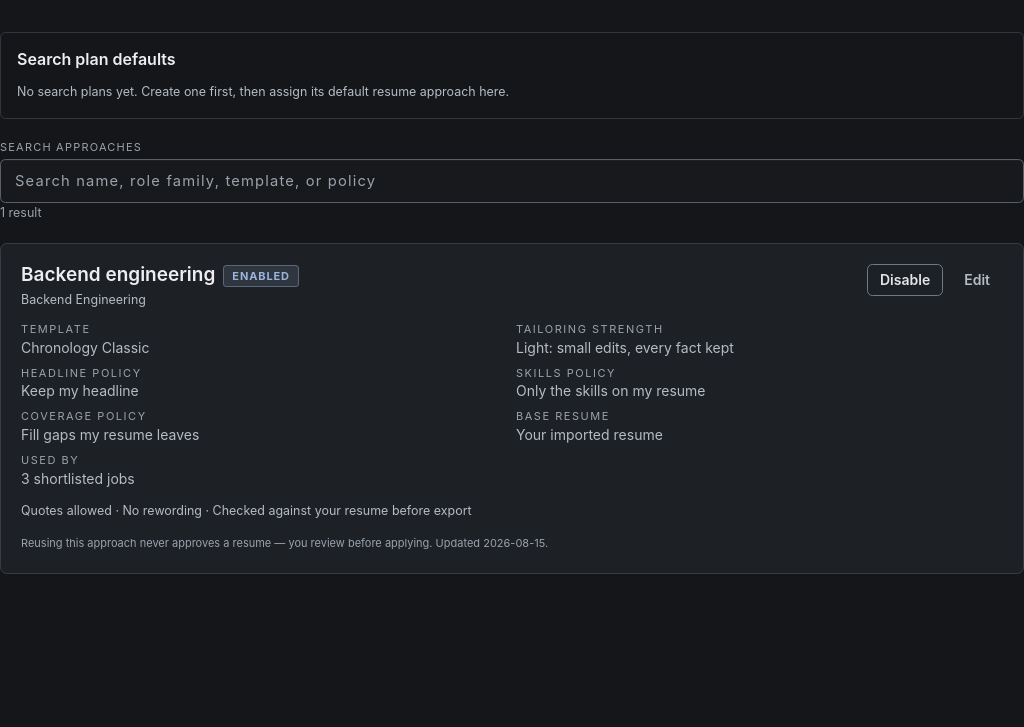
Test: ResumeStrategiesScreen usage after an edit › says which shortlisted jobs use the saved approach and offers to re-tailor their unapproved drafts
Expected: the text "3 shortlisted jobs" is shown, 21,470 -> 135,487
Click the button "Edit".
click(977, 280)  # box 951,264 -> 1003,296
(page scrolled)
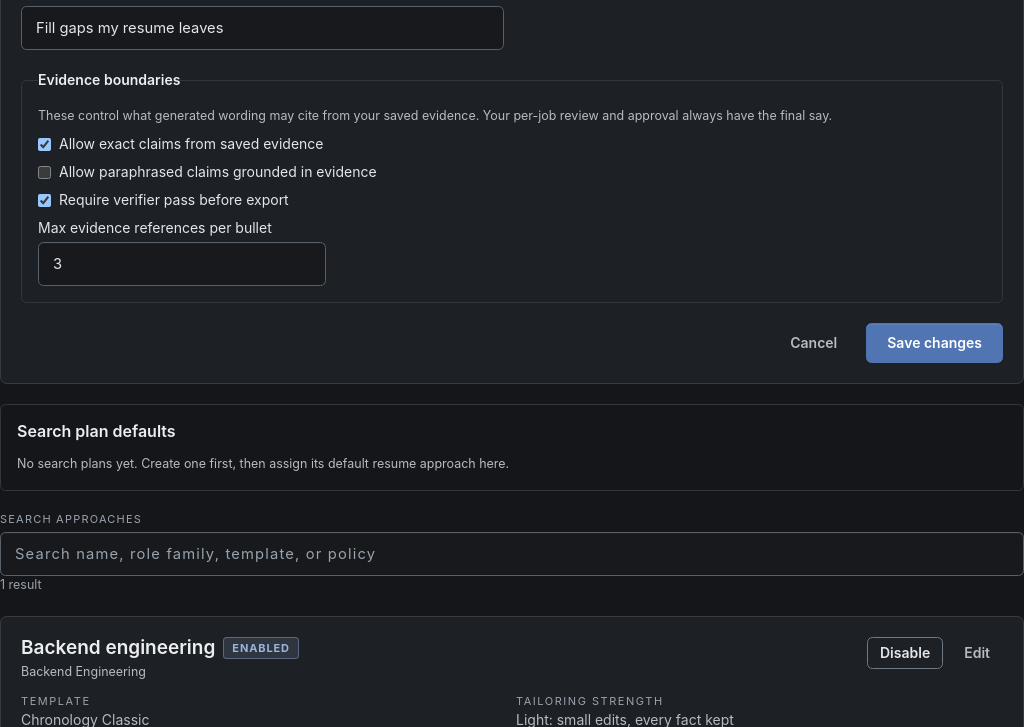
Click the button "Save changes".
click(935, 343)  # box 866,323 -> 1003,363
(page scrolled)
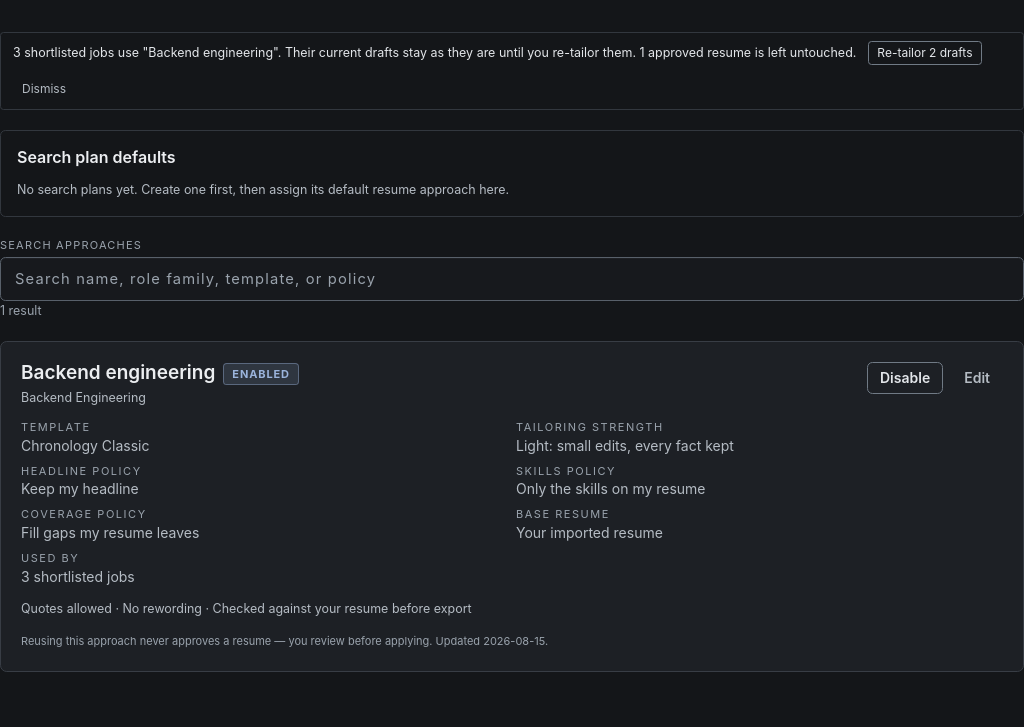
Now the message with test id "resume-strategy-usage-notice" shows "3 shortlisted jobs use", box 13,45 -> 281,60
Now the message with test id "resume-strategy-usage-notice" shows "1 approved resume is left untouched", box 636,45 -> 856,60
Click the button "Re-tailor 2 drafts".
click(925, 53)  # box 868,41 -> 982,65
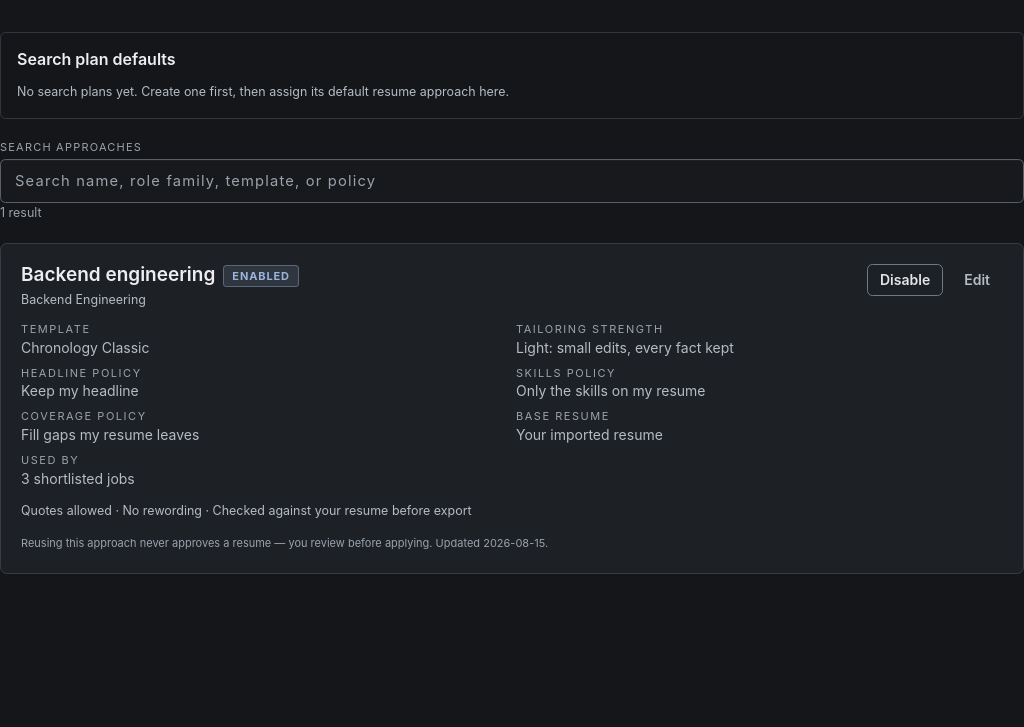
Now the message with test id "resume-strategy-usage-notice" is gone
